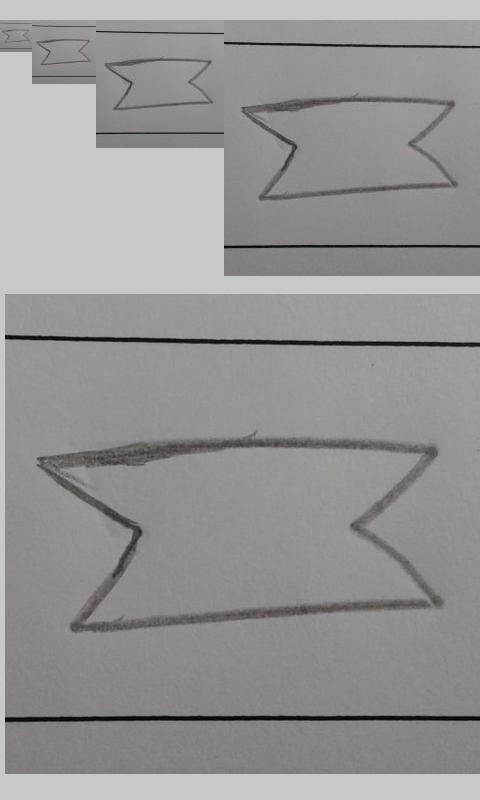edit_text: (31, 437, 444, 633), (239, 96, 459, 201), (103, 58, 213, 110), (36, 39, 92, 66), (2, 29, 30, 43)
